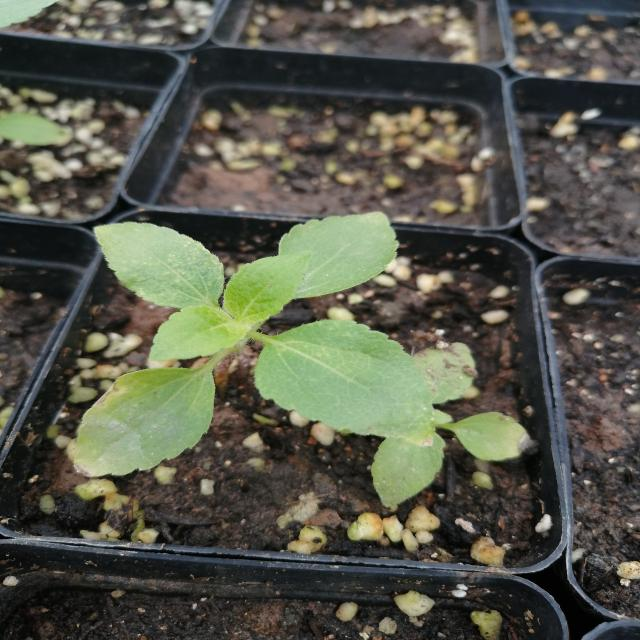billygoat_weed: (103, 200, 465, 455)
